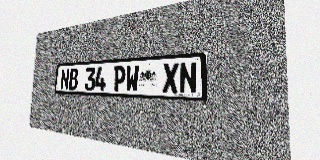3: (84, 67, 95, 91)
4: (94, 67, 106, 91)
B: (68, 68, 78, 90)
N: (179, 62, 197, 94), (60, 69, 70, 90)
P: (113, 66, 126, 92)
W: (125, 65, 139, 92)
X: (162, 63, 179, 93)
